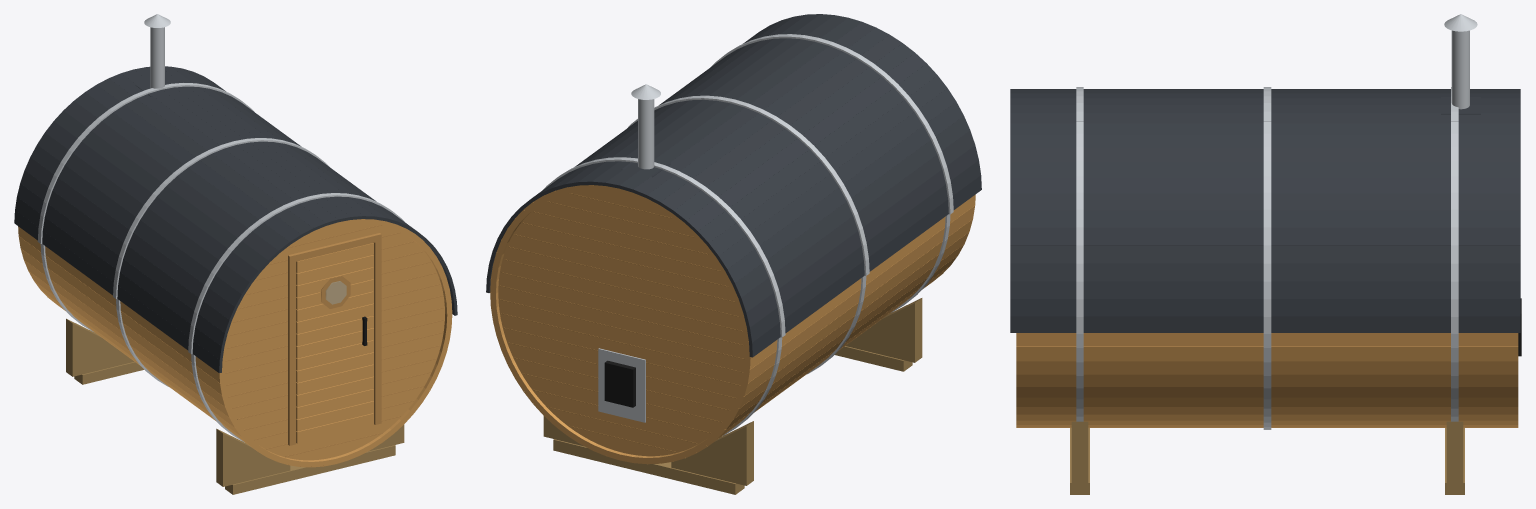
File: баня_бочка_2_3_м_печь_каменка_лавки_с_двух_сторон.glb
3 views of the same model, side by side, from view 1: azimuth 30°, elevation 25°; view 2: azimuth 150°, elevation 25°; view 3: azimuth 270°, elevation 25° (orthographic). The views are drawn at different scales.
Visible parts, largest first — view 1: roof, walls, barrel; view 2: roof, walls, barrel; view 3: roof, walls, barrel.
Boxes of the visible parts, x1,y1,x2,y2 form: roof: (14,66,457,373); walls: (18,222,452,467); barrel: (40,14,404,494); roof: (486,14,981,357); walls: (490,190,975,464); barrel: (543,84,950,494); roof: (1010,87,1520,333); walls: (1016,333,1518,427); barrel: (1070,14,1521,494).
Bounding box in the file's own units: 2.07 × 2.84 × 3.06.
